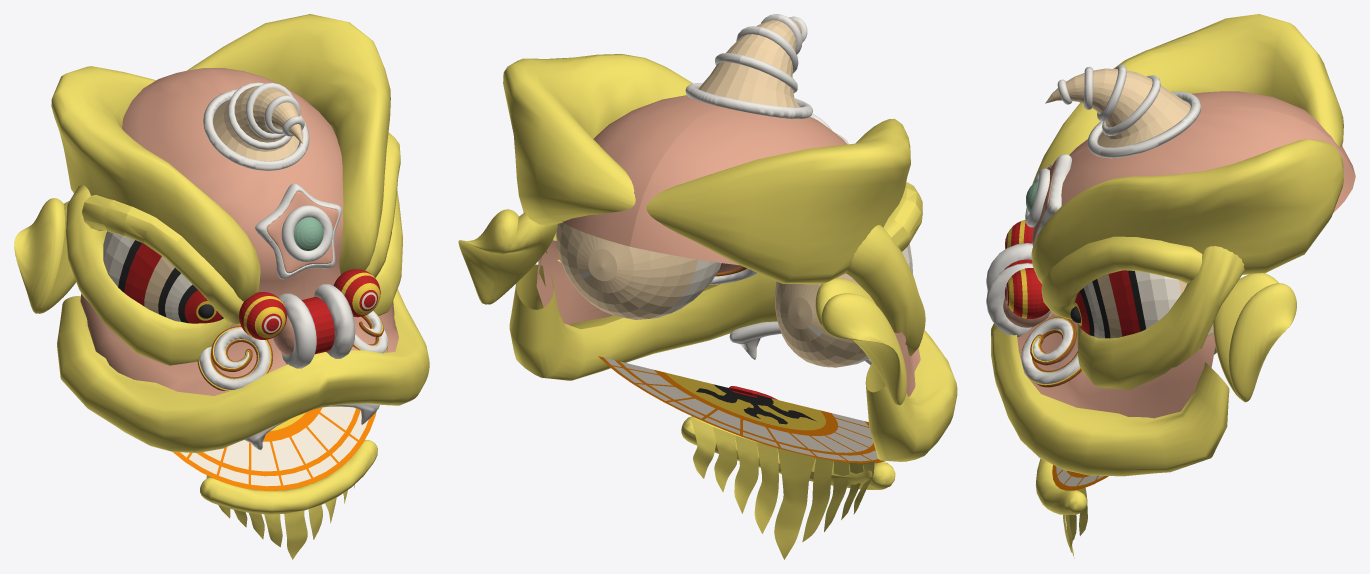
Rendered from lan-su-head.glb.
The picture shows the model from 3 angles, left to right: view 1: azimuth 30°, elevation 25°; view 2: azimuth 150°, elevation 25°; view 3: azimuth 270°, elevation 25°; orthographic projection. The views are drawn at different scales.
Visible parts, largest first — view 1: Model; view 2: Model; view 3: Model.
Part boxes in pixels (x1,y1,x2,y2): Model: (14, 14, 429, 559); Model: (458, 14, 957, 559); Model: (986, 14, 1355, 558).
Bounding box in the file's own units: 611 × 737 × 504.
